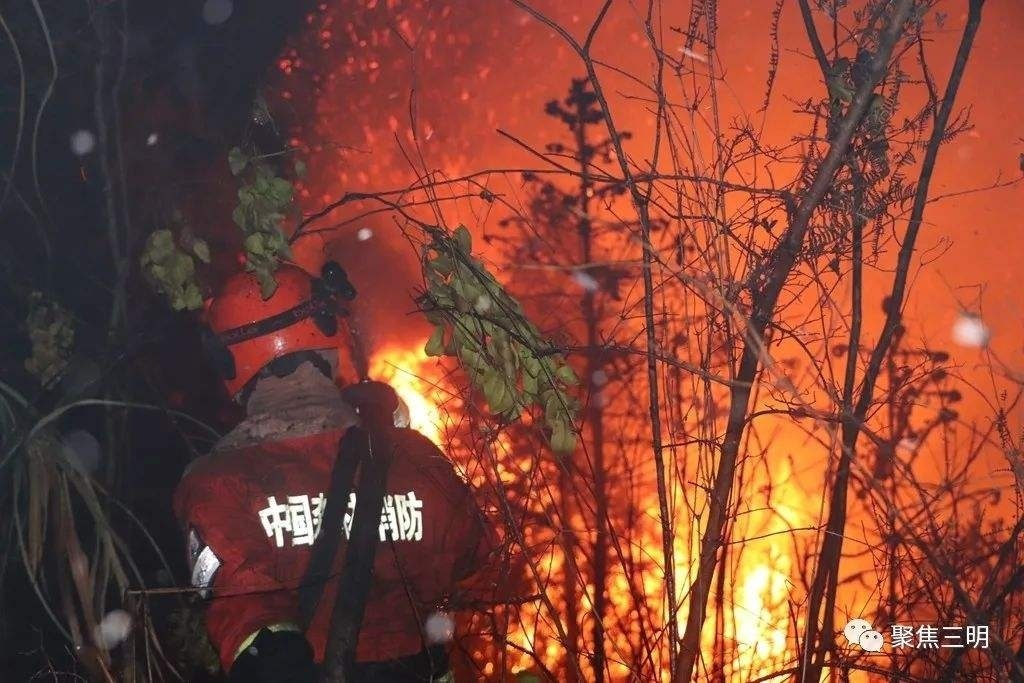fire: (615, 453, 817, 683), (373, 333, 461, 445)
